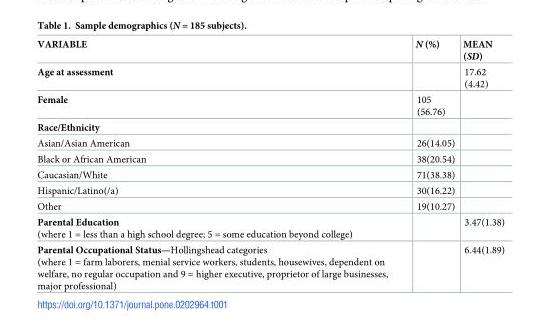table: (36, 37, 504, 290)
table column: (36, 37, 400, 290), (400, 37, 458, 290), (458, 37, 504, 290)
table column header: (36, 37, 504, 64)
table projected row header: (36, 119, 504, 135)
table row: (36, 241, 504, 290), (36, 91, 504, 119), (36, 37, 504, 64), (36, 64, 504, 91), (36, 214, 504, 241), (36, 119, 504, 135), (36, 150, 504, 166), (36, 166, 504, 182), (36, 182, 504, 198), (36, 198, 504, 214), (36, 135, 504, 150)
